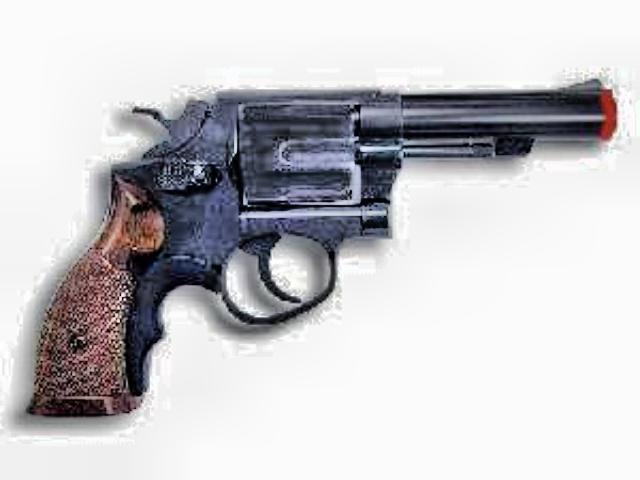pistol: (22, 72, 612, 420)
